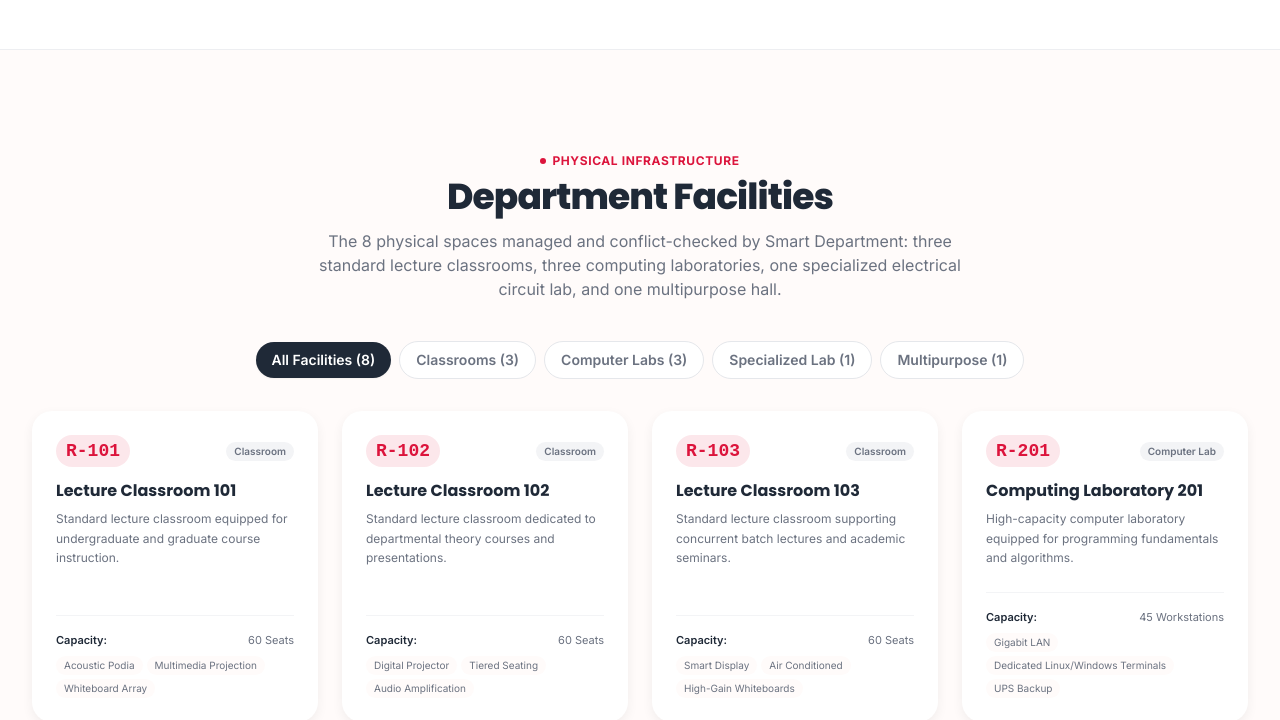
Test: HomePage Component › renders all 8 managed physical facilities and allows category filtering
The image size is (1280, 720).
(page scrolled)
Expected: the text "R-101" is shown, [56, 435, 130, 467]
Expected: the text "R-102" is shown, [366, 435, 440, 467]
Filter by Computer Labs
Click the tab "Computer Labs (3)": [624, 360] box [544, 341, 704, 379]
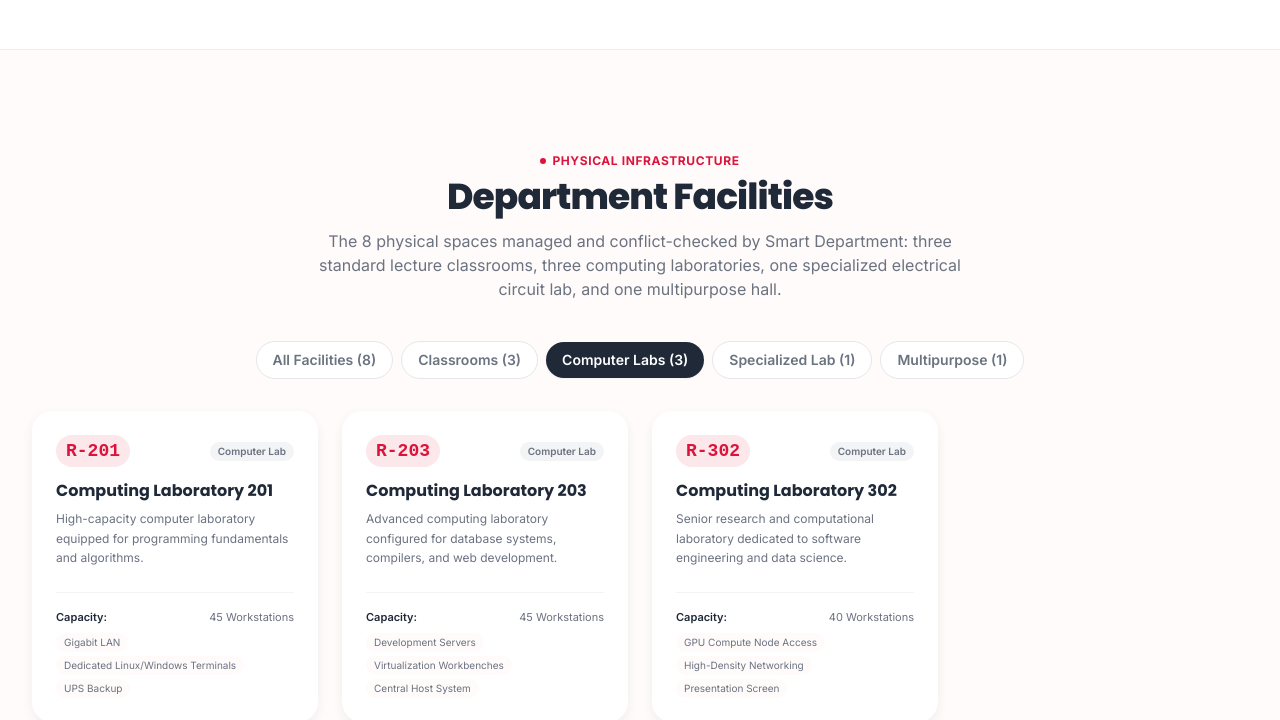
Expected: the text "R-201" is shown, [56, 435, 130, 467]
Result: the text "R-101" is gone
Filter by Specialized Lab
Click the tab "Specialized Lab (1)": [792, 360] box [712, 341, 872, 379]
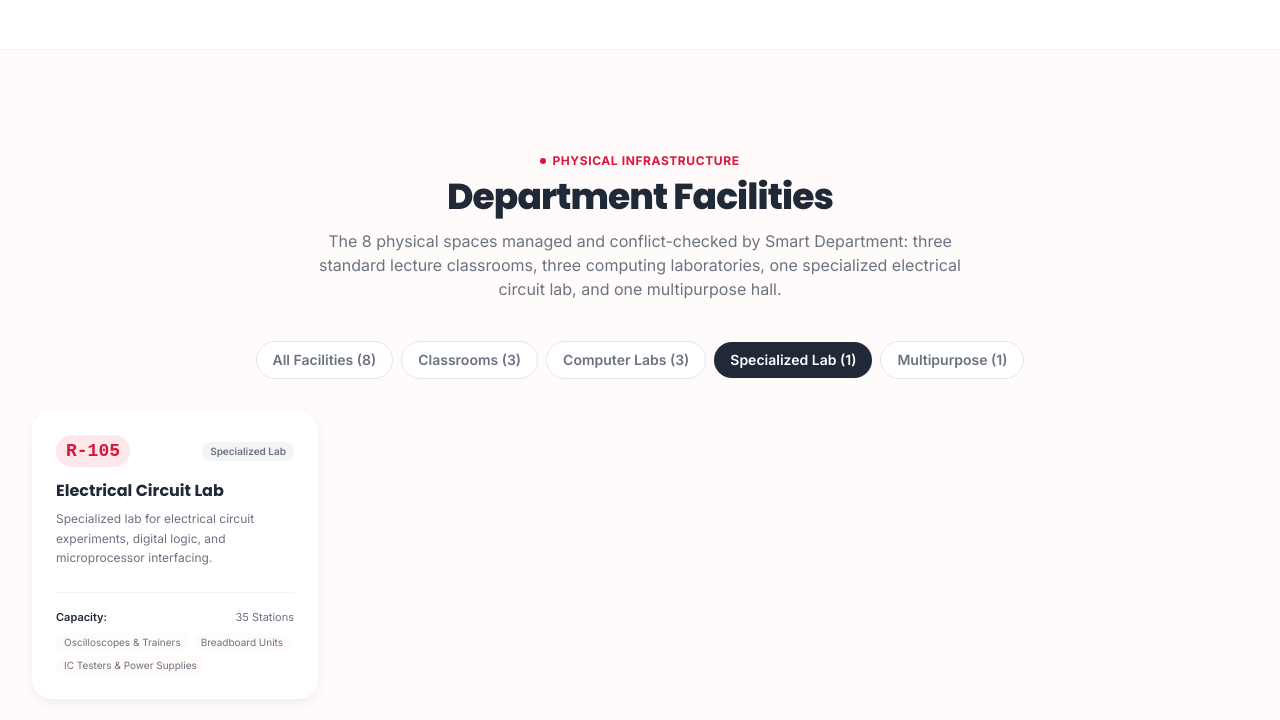
Result: the text "R-105" is shown at [56, 435, 130, 467]
Result: the text "R-201" is gone
Switch back to All
Click the tab "All Facilities (8)": [324, 360] box [256, 341, 393, 379]
(page scrolled)
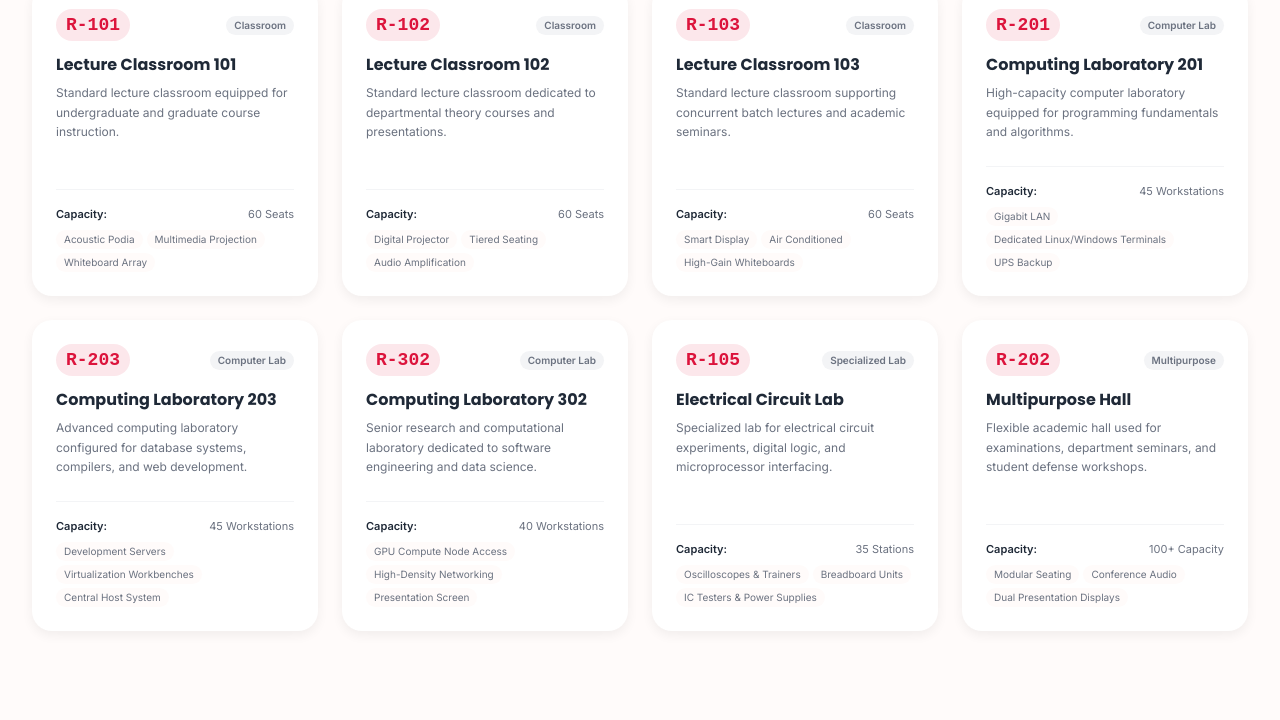
Result: the text "R-105" is shown at [676, 344, 750, 376]
Result: the text "R-101" is shown at [56, 9, 130, 41]
